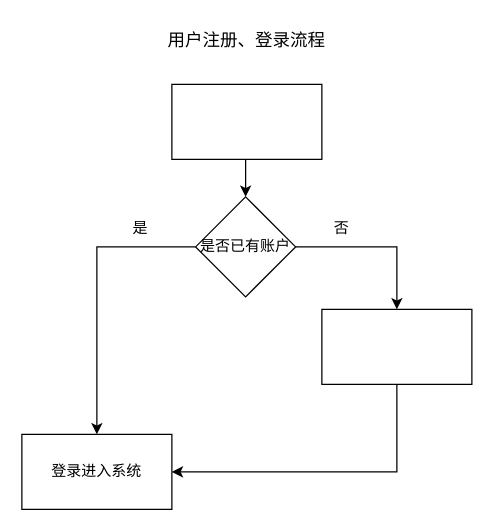
Some shapes in this 494 by 531 pixel diagram are drawn without their labels. Here are the shapes that lost their labels. From the top down, the box of each, then its label:
(171, 83, 322, 159): 登录/注册页面
(321, 308, 472, 384): 注册账户
